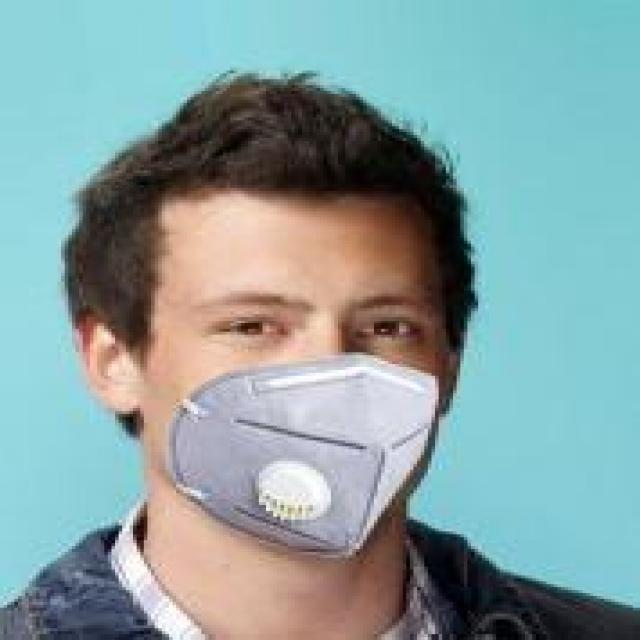mask: (97, 103, 489, 575)
